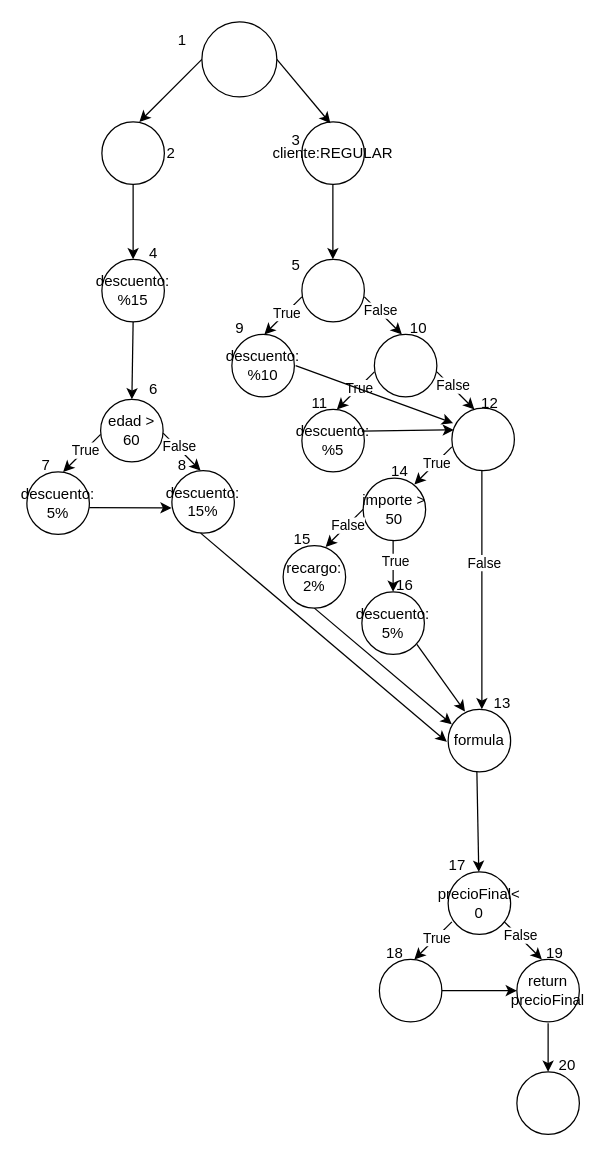
This 614x1156 diagram has some shape labels left out. Here are the shapes that lost their labels. From the top down, the box of each, then its label:
(201, 21, 277, 97): inicio
(101, 121, 164, 184): cliente: VIP
(301, 258, 364, 322): importe > 200
(373, 333, 437, 397): importe > 100
(451, 407, 514, 471): PrimeraCompra
(378, 958, 442, 1022): precioFinal = 0
(516, 1071, 579, 1134): FIN
